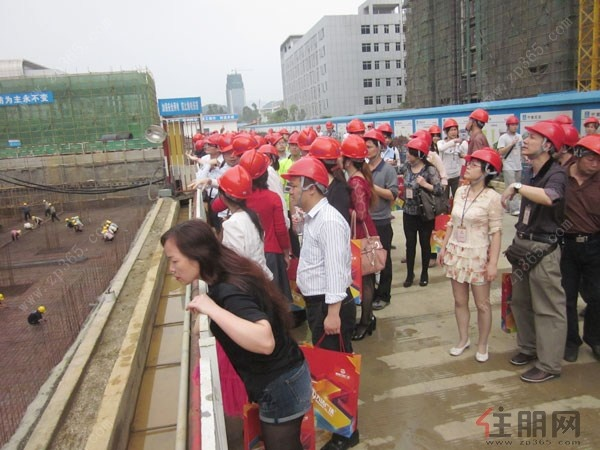none: (158, 219, 220, 288)
red: (281, 156, 327, 209), (522, 120, 563, 163), (461, 147, 503, 186), (217, 165, 252, 210), (338, 132, 368, 173), (239, 149, 269, 187), (310, 136, 340, 170), (575, 135, 600, 175), (404, 137, 430, 164), (465, 107, 489, 133), (364, 129, 384, 160), (219, 137, 240, 164), (297, 127, 317, 154), (258, 143, 278, 166), (442, 118, 459, 139), (204, 135, 220, 156), (287, 132, 301, 155), (378, 123, 392, 146), (427, 125, 443, 145), (271, 133, 286, 153), (584, 115, 598, 134), (505, 115, 519, 133), (281, 128, 290, 140)
yellow: (36, 304, 46, 316)
